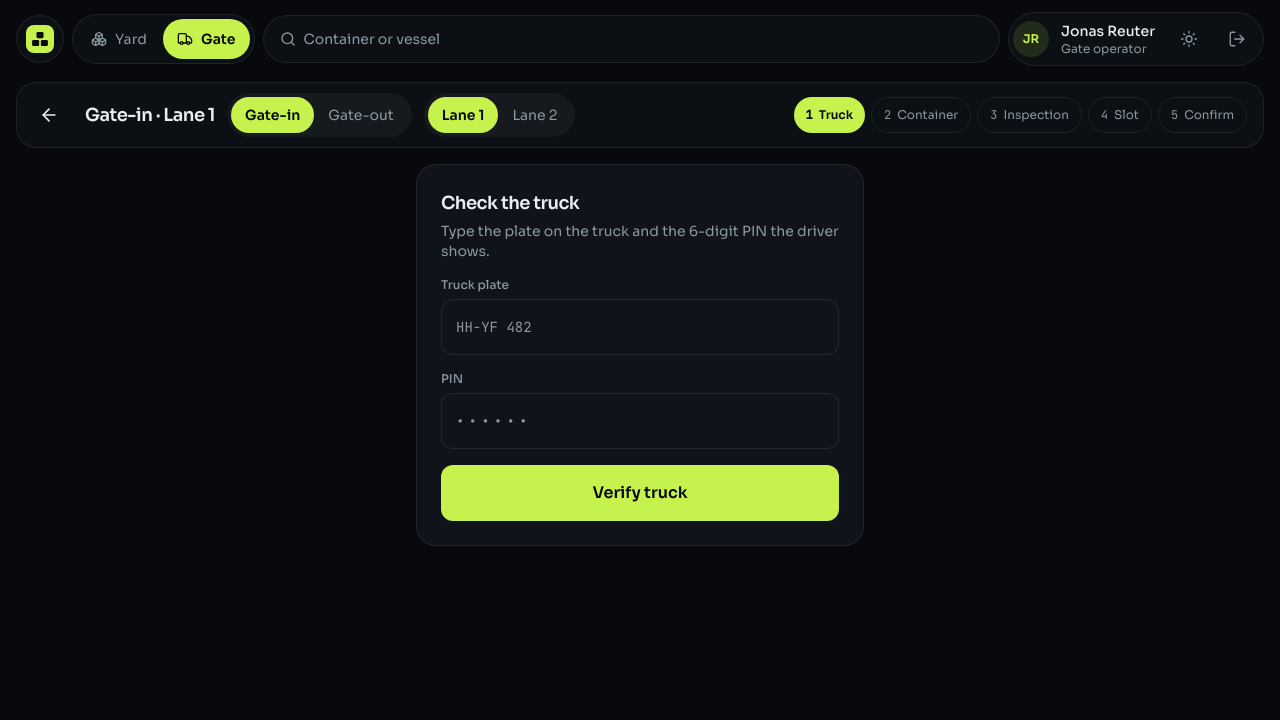
gate screens › shows why a truck could not be verified
The width and height of the screenshot is (1280, 720).
Type "hh-yf 175" into the field labelled "Truck plate" at (640, 327), box left=441, top=299, right=839, bottom=355
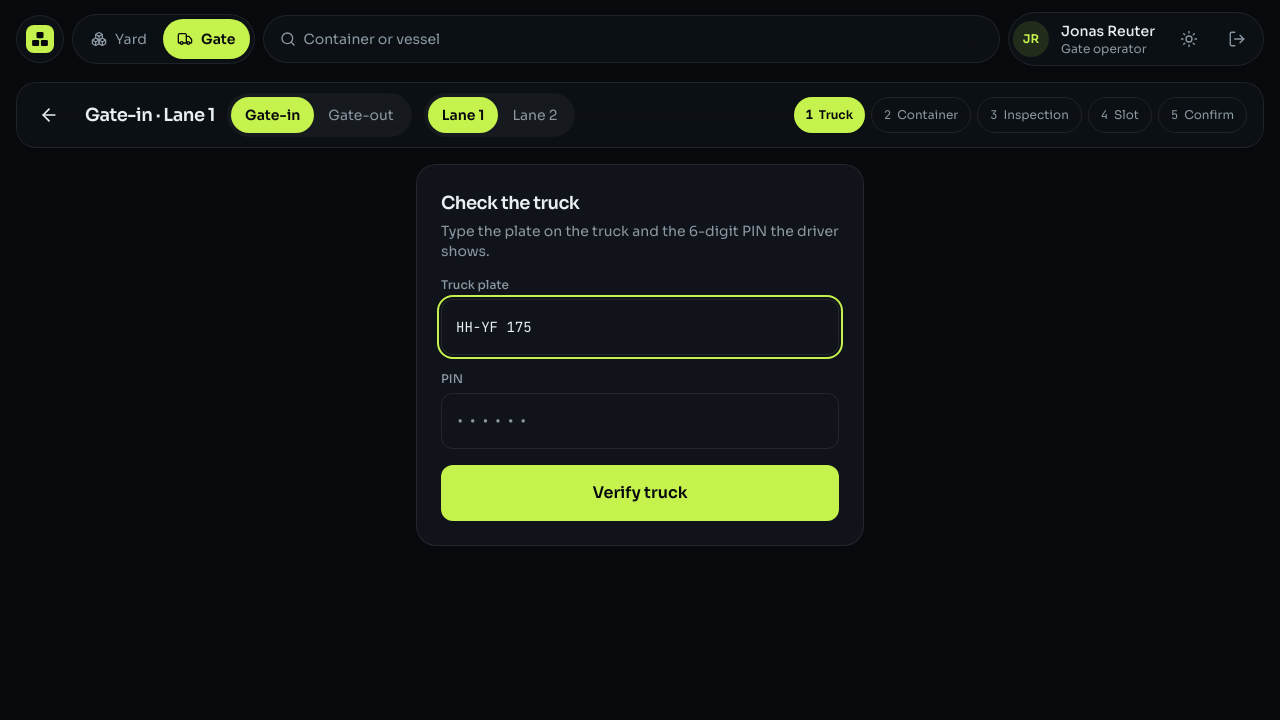
Type "175824" into the field labelled "PIN" at (640, 421), box left=441, top=393, right=839, bottom=449
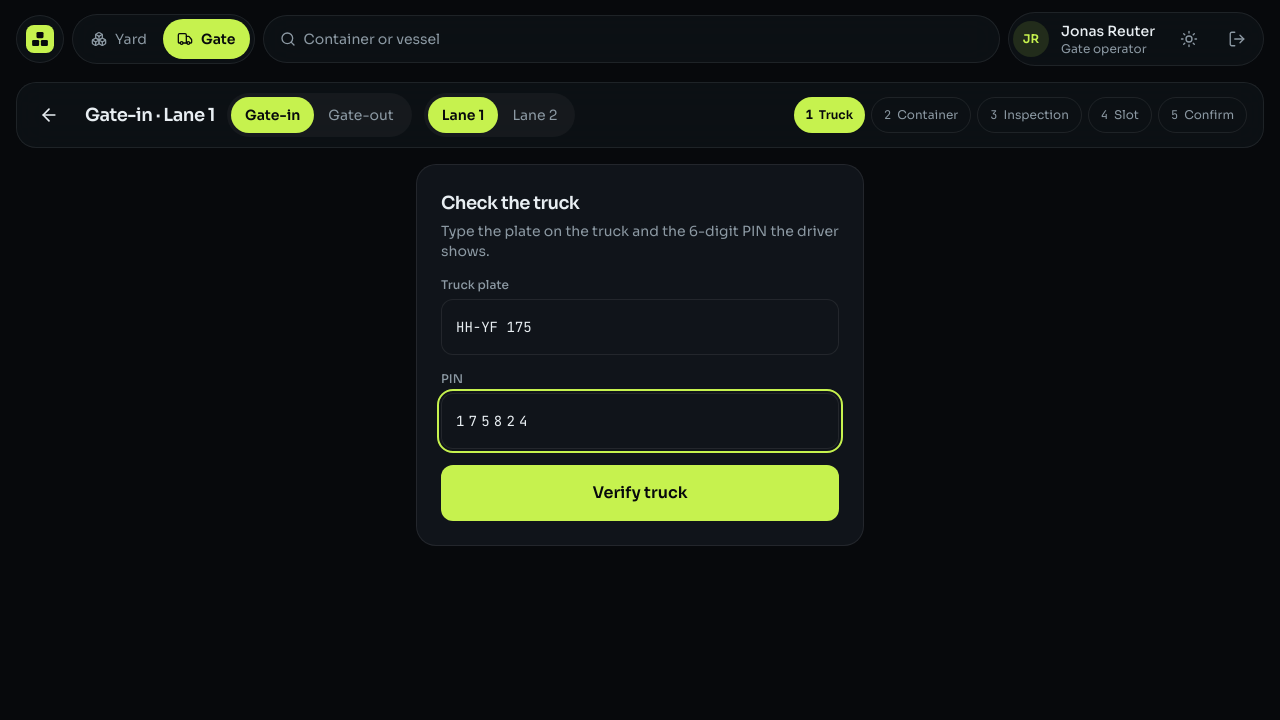
Click the button "Verify truck" at (640, 493), box left=441, top=465, right=839, bottom=521
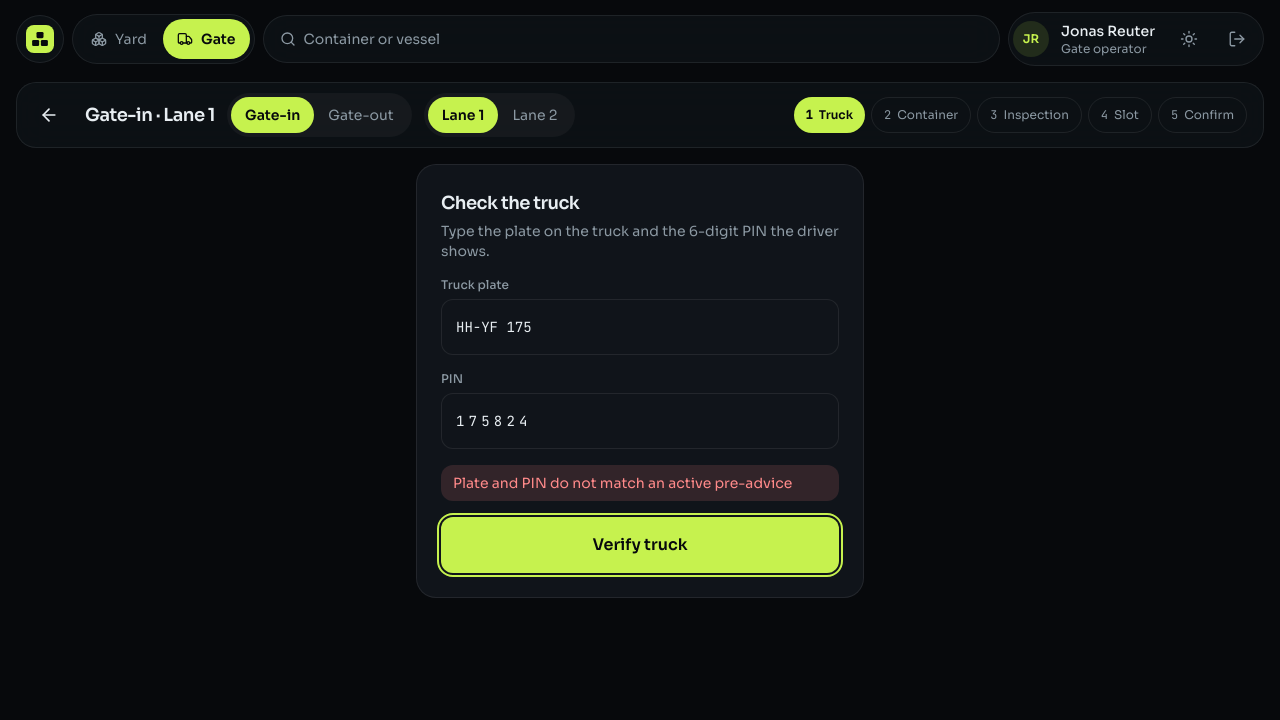
Expected: the message shows "Plate and PIN do not match", left=453, top=474, right=792, bottom=492
